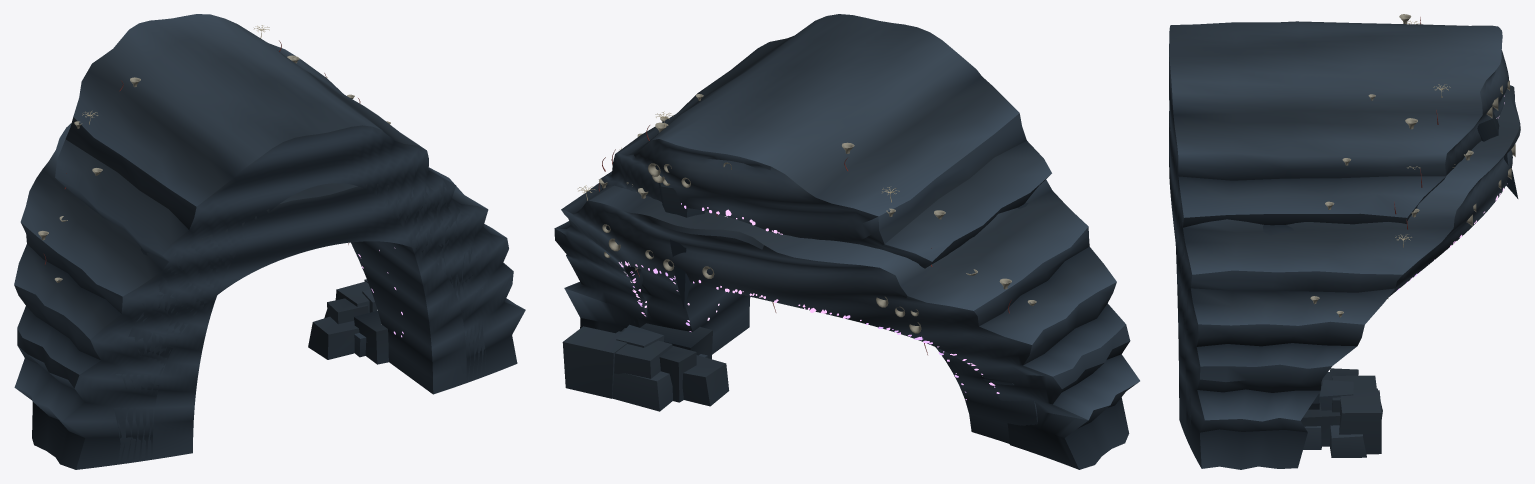
File: arcos-roca.glb
3 views of the same model, side by side, from view 1: azimuth 30°, elevation 25°; view 2: azimuth 150°, elevation 25°; view 3: azimuth 270°, elevation 25° (orthographic). The views are drawn at different scales.
Parts seen in each view (by area): view 1: B_rock, A_rock; view 2: B_rock, A_rock, A_growth, B_growth, A_glow; view 3: B_rock, A_rock, B_growth, A_growth.
Part boxes in pixels (<box>): B_rock: <box>55,14,486,464</box>; A_rock: <box>14,123,525,469</box>; B_rock: <box>562,14,1051,443</box>; A_rock: <box>554,179,1139,469</box>; A_growth: <box>577,179,1036,354</box>; B_growth: <box>602,94,977,275</box>; A_glow: <box>618,261,999,393</box>; B_rock: <box>1169,21,1518,457</box>; A_rock: <box>1169,85,1520,469</box>; B_growth: <box>1325,14,1509,214</box>; A_growth: <box>1310,144,1515,317</box>.
Size of the model in its own units: 50.31 by 30.74 by 30.91.
